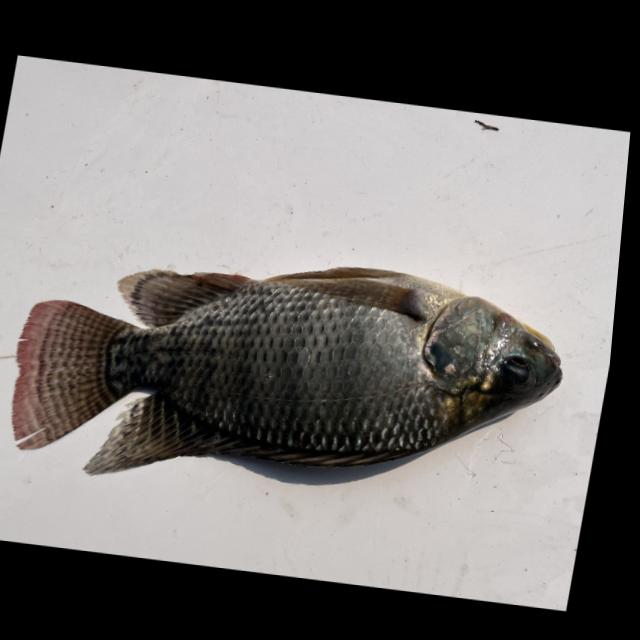Tilapia: (0, 220, 580, 529)
